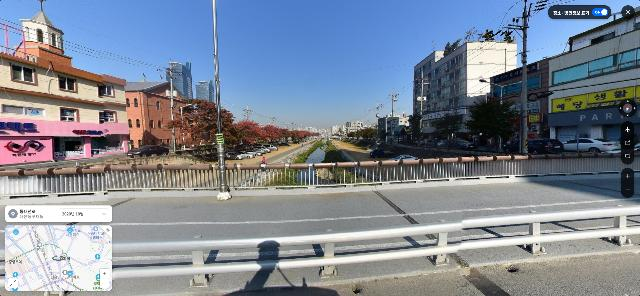other: (171, 98, 236, 150), (468, 95, 519, 149), (427, 109, 464, 145), (226, 119, 259, 148), (260, 124, 281, 145)
